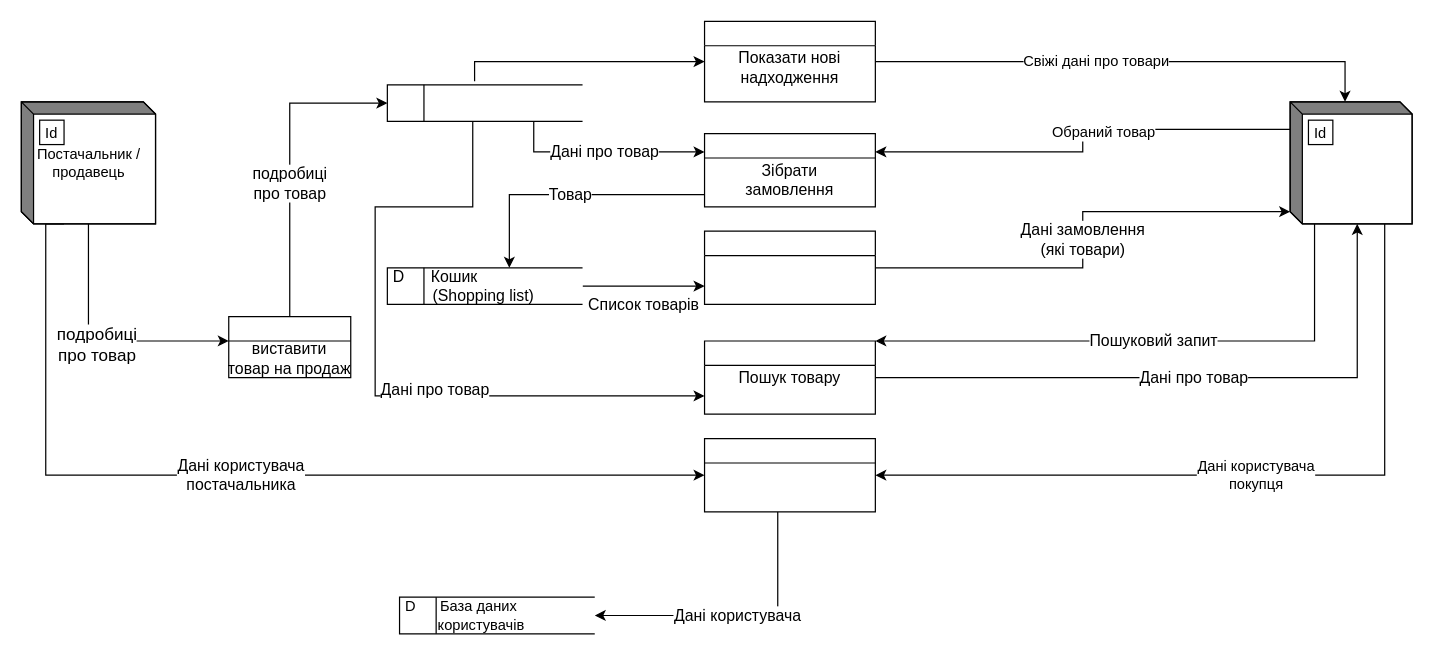
The diagram is 1434 pixels wide and 655 high, and some of its shapes have lost their labels. Here are the shapes that lost their labels. From the top down, the centre of each, then its label:
point 484,102: D База товарів ("Werehouse" DB)
point 1350,162: Покупець
point 789,267: Переглянути замовлення
point 789,474: Реєстрація
